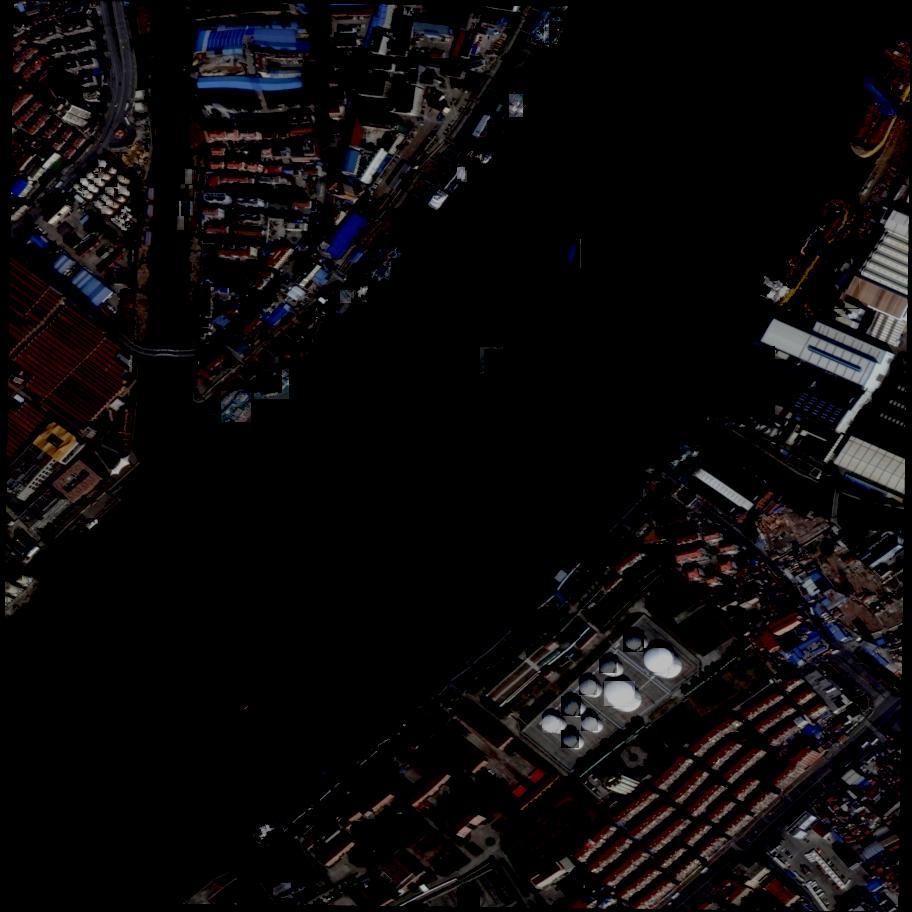ship: (758, 192, 861, 314), (695, 345, 775, 418), (188, 696, 257, 760), (358, 718, 404, 748), (263, 375, 303, 409), (372, 245, 405, 286), (352, 712, 398, 740), (227, 400, 260, 436), (254, 368, 290, 401), (305, 310, 334, 350), (269, 498, 299, 536), (244, 365, 282, 394), (391, 208, 420, 245), (330, 749, 358, 784), (222, 390, 252, 422), (319, 750, 357, 773), (255, 816, 283, 846), (278, 342, 307, 366), (485, 350, 511, 375), (473, 345, 500, 369), (480, 347, 503, 375), (219, 408, 241, 437), (580, 238, 602, 267), (493, 352, 516, 379), (550, 22, 570, 52), (287, 348, 313, 371), (533, 20, 559, 43), (290, 792, 320, 811), (249, 817, 279, 835), (287, 788, 315, 807), (491, 120, 512, 145), (470, 146, 491, 171), (546, 16, 564, 45), (109, 604, 134, 624), (566, 239, 582, 269), (641, 462, 662, 484), (511, 98, 533, 119), (571, 244, 584, 278), (464, 140, 481, 166), (292, 871, 317, 887), (271, 877, 290, 897), (700, 7, 713, 36), (357, 281, 374, 303), (273, 883, 295, 899), (391, 259, 409, 278), (509, 93, 523, 117), (660, 447, 681, 462), (675, 444, 699, 457), (479, 151, 497, 168), (627, 482, 643, 501), (165, 189, 177, 214), (487, 124, 503, 139), (87, 518, 103, 532), (340, 290, 351, 305), (182, 217, 191, 233), (453, 181, 463, 195), (185, 169, 193, 185), (312, 308, 326, 317), (182, 201, 190, 216), (178, 217, 186, 231), (180, 183, 187, 199), (153, 123, 158, 143), (188, 185, 195, 199), (187, 202, 193, 218), (458, 168, 466, 180), (342, 293, 355, 300), (462, 170, 469, 183), (190, 169, 196, 184), (185, 185, 190, 200), (77, 524, 86, 532), (188, 217, 192, 231), (179, 201, 181, 216)
storage-tank: (604, 682, 635, 709), (645, 648, 675, 674), (457, 887, 482, 908), (624, 630, 646, 652), (561, 697, 583, 717), (543, 714, 563, 733), (581, 714, 599, 732), (562, 731, 580, 749), (579, 679, 598, 696), (599, 659, 617, 674), (9, 571, 23, 582), (118, 186, 128, 195), (99, 193, 108, 202), (86, 172, 95, 181), (73, 183, 82, 192), (92, 166, 101, 174), (101, 206, 110, 214), (98, 159, 107, 167), (98, 172, 107, 179), (105, 188, 114, 194), (88, 184, 95, 191), (80, 178, 87, 184), (117, 174, 124, 180), (114, 194, 120, 200), (107, 200, 113, 206), (94, 200, 100, 206), (105, 166, 111, 171), (111, 182, 117, 187), (94, 179, 101, 183), (82, 191, 89, 195), (117, 222, 122, 227), (123, 217, 128, 221), (120, 219, 124, 223), (121, 226, 125, 230), (121, 210, 126, 213), (119, 212, 123, 215), (115, 216, 118, 219), (126, 213, 129, 215), (112, 219, 115, 221), (125, 207, 127, 209), (126, 223, 128, 225)
